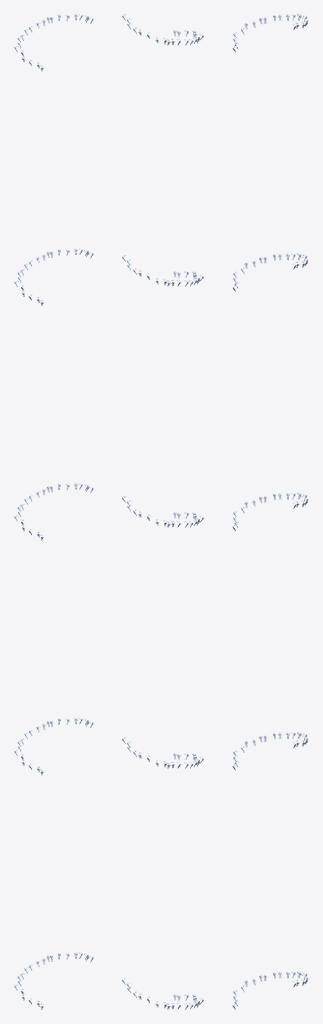
Rendered from Circle9Crowd5.obj.
3 views of the same model, side by side, from view 1: azimuth 30°, elevation 25°; view 2: azimuth 210°, elevation 25°; view 3: azimuth 330°, elevation 25° (orthographic). The views are drawn at different scales.
Parts seen in each view (by area): view 1: Circle9Crowd5; view 2: Circle9Crowd5; view 3: Circle9Crowd5.
Boxes of the visible parts, x1,y1,x2,y2 form: Circle9Crowd5: (14, 14, 93, 1009); Circle9Crowd5: (122, 14, 203, 1009); Circle9Crowd5: (232, 14, 308, 1009).
Size of the model in its own units: 29.14 by 399 by 22.69.
Materials: 1 (1 with a texture image).
